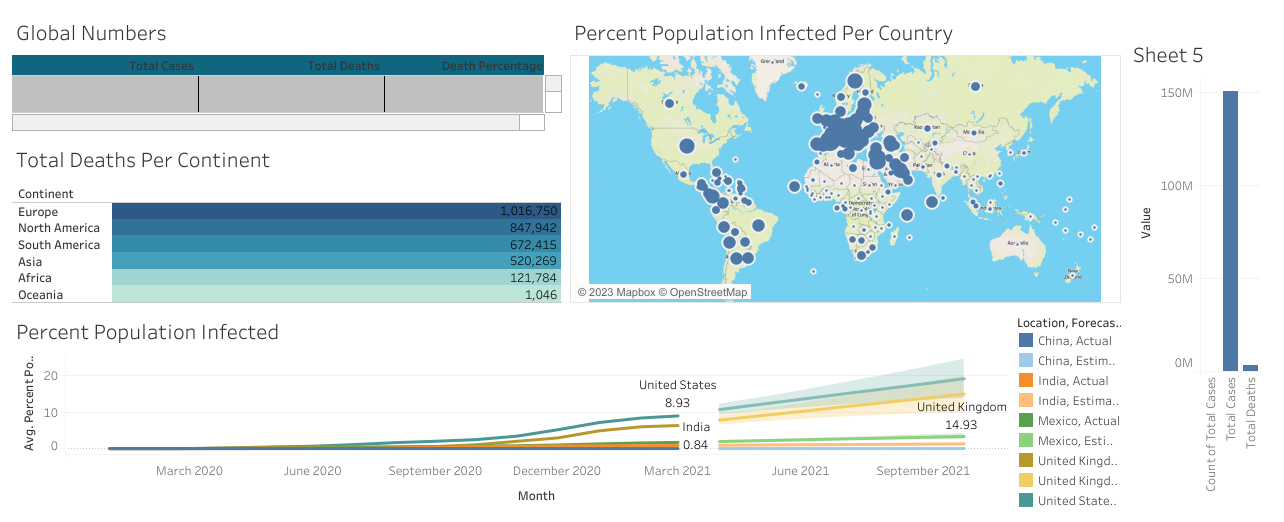

What the dashboard file says about the page in this screenshot:
{"tool":"tableau","page":{"name":"Dashboard 1","canvas":[1000,1000],"units":"permille","ordinal":0},"visuals":[{"type":"worksheet","title":"Sheet 1","mark":"Automatic","box":[6.9,13.5,427.3,243.2]},{"type":"worksheet","title":"Sheet 3","mark":"Automatic","box":[434.2,13.5,427.3,573.4]},{"type":"legend","title":"Sheet 3","param":"[federated.1u6pgzk0rhh873144wigi0cf6ax3].[sum:PercentPopulationInfected:qk]","box":[861.5,13.5,131.6,37.2]},{"type":"worksheet","title":"Sheet 5","mark":"Automatic","box":[861.5,50.7,131.6,881.8]},{"type":"worksheet","title":"Sheet 2","mark":"Square","rows":["location"],"box":[6.9,256.8,427.3,330.2]},{"type":"worksheet","title":"Sheet 4","mark":"Automatic","rows":["PercentPopulationInfected"],"cols":["date"],"box":[6.9,586.9,768.4,399.6]},{"type":"legend","title":"Sheet 4","param":"[federated.0fv2uox0hbhi61182v4641vh426j].[none:Location:nk]\n[federated.0fv2uox0h","box":[775.3,586.9,86.2,399.6]}]}

Visuals, with their boxes on the dashboard's canvas, which has no fixed pixel size, in thousandths of its width and height (x1, y1, x2, y2). These are canvas units, not pixel positions in the 1284x522 screenshot, which may show the page scaled, cropped or inside an application window:
"Sheet 1" worksheet: [7, 14, 434, 257]
"Sheet 3" worksheet: [434, 14, 862, 587]
"Sheet 3" legend: [862, 14, 993, 51]
"Sheet 5" worksheet: [862, 51, 993, 932]
"Sheet 2" worksheet (Square marks): [7, 257, 434, 587]
"Sheet 4" worksheet: [7, 587, 775, 986]
"Sheet 4" legend: [775, 587, 862, 986]
